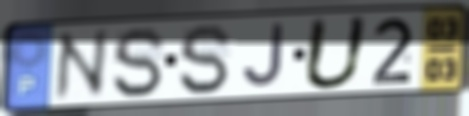2: (372, 15, 416, 87)
J: (240, 21, 286, 91)
N: (53, 26, 109, 105)
S: (110, 25, 169, 101), (177, 22, 235, 98)
U: (300, 14, 373, 93)
